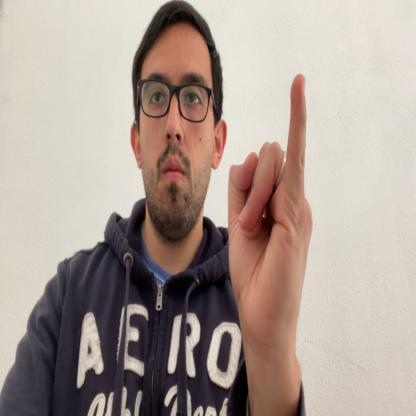I: (228, 73, 312, 360)
